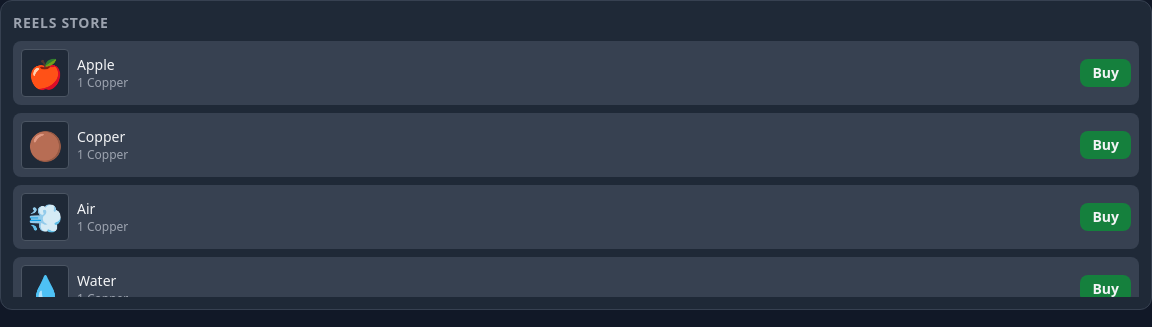
Test: Market purchase flash (US3 v1.1) › after clicking Buy, a ✓ indicator appears on that item row
The image size is (1152, 327).
Click the button with aria-label "buy apple".
click(1106, 73)  # box [1080,59,1131,87]
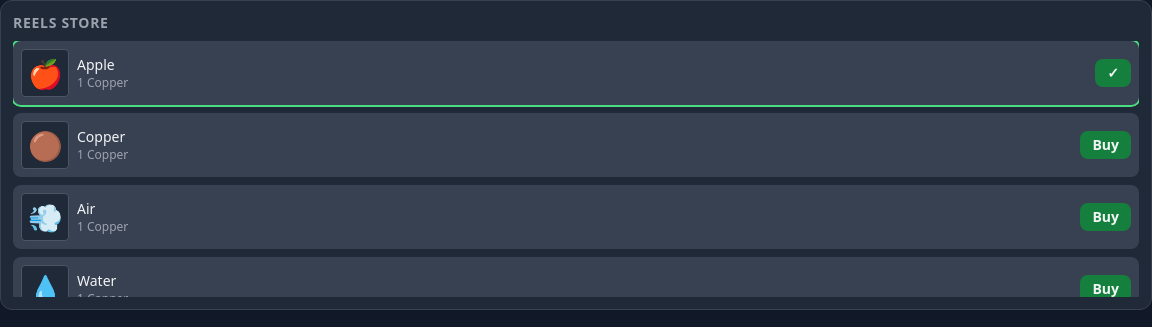
Check: the button "✓" is shown, box [1095,59,1131,87]
